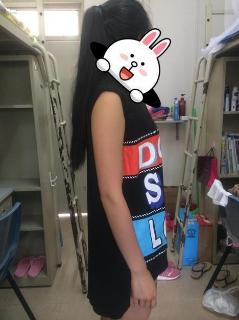vest dress: (86, 73, 169, 319)
